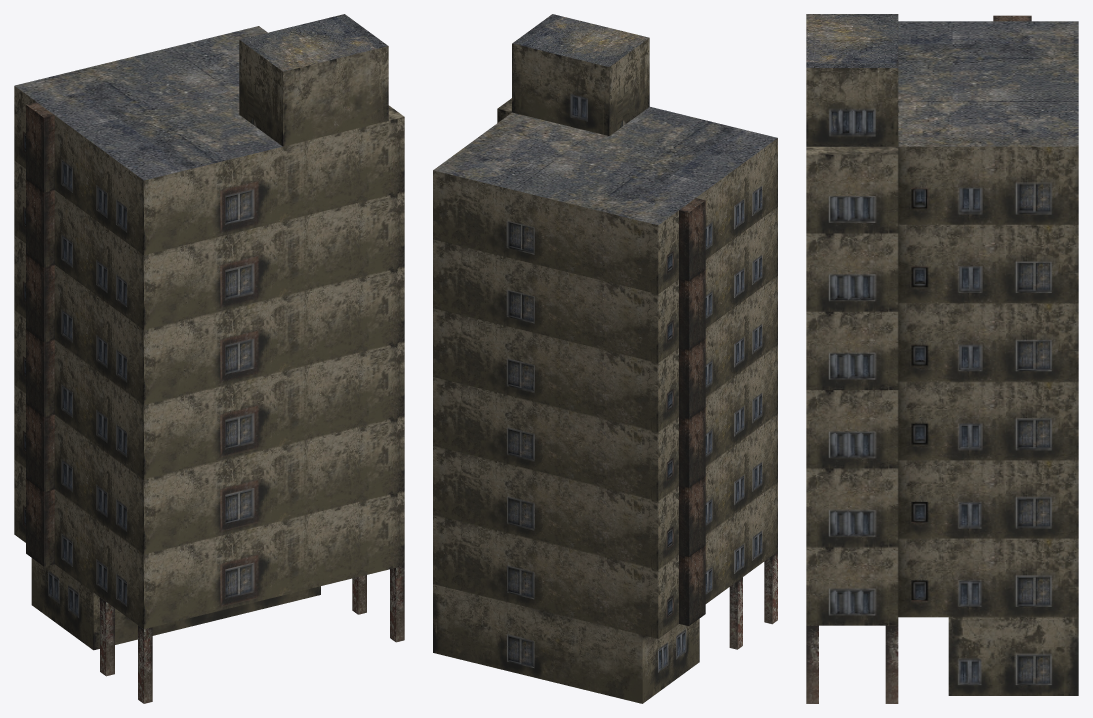
File: LowendTall_01.FBX
3 views of the same model, side by side, from view 1: azimuth 30°, elevation 25°; view 2: azimuth 150°, elevation 25°; view 3: azimuth 270°, elevation 25° (orthographic). The views are drawn at different scales.
Parts seen in each view (by area): view 1: LowendTall_01; view 2: LowendTall_01; view 3: LowendTall_01.
Part boxes in pixels (x1,y1,x2,y2): LowendTall_01: [14, 14, 404, 703]; LowendTall_01: [433, 14, 777, 703]; LowendTall_01: [806, 14, 1078, 703].
Bounding box in the file's own units: 1943 × 4089 × 1606.
Materials: 1 (1 with a texture image).
